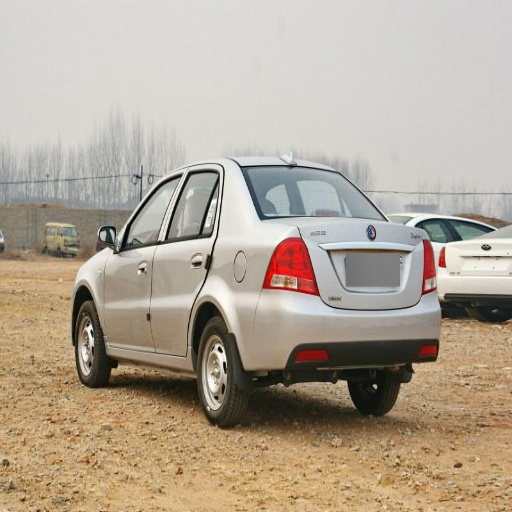back_bumper: (232, 289, 442, 388)
back_glass: (242, 166, 375, 217)
back_left_door: (151, 165, 221, 356)
